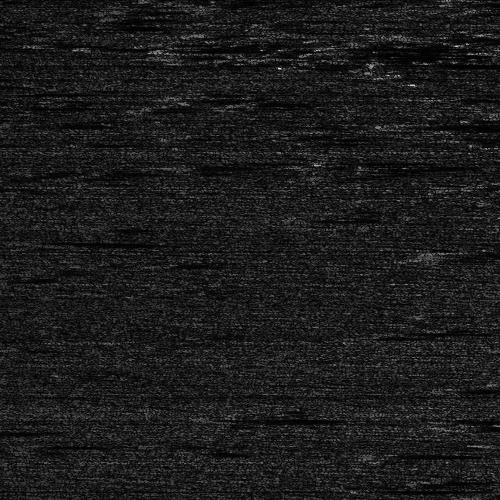object: (408, 419, 500, 432), (429, 245, 492, 258), (359, 120, 442, 127), (11, 237, 74, 246), (434, 493, 500, 500), (451, 47, 500, 56), (462, 182, 500, 193), (485, 421, 500, 434), (390, 60, 421, 65), (217, 416, 258, 419), (477, 440, 500, 445), (16, 443, 47, 446)
shadow: (0, 401, 126, 456), (43, 237, 152, 246), (401, 120, 500, 127), (454, 419, 500, 432), (460, 245, 500, 258), (238, 416, 363, 419), (385, 488, 500, 491), (32, 443, 118, 446), (379, 453, 460, 456), (471, 493, 500, 500), (406, 60, 434, 65)
